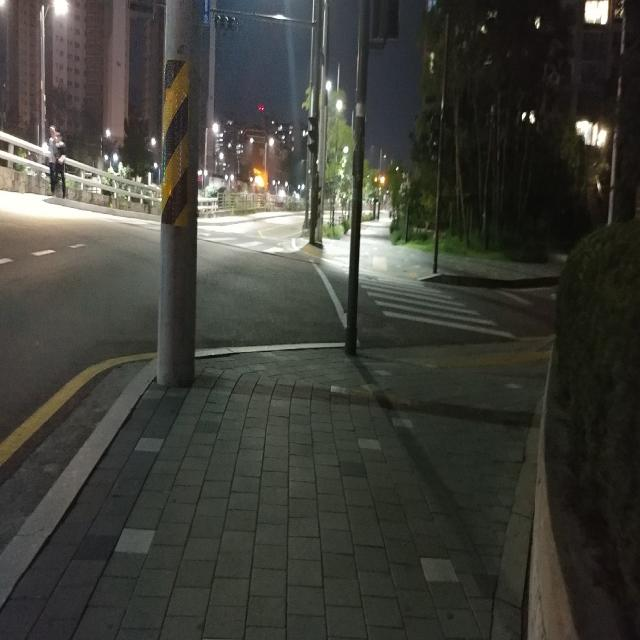횡단보도: (342, 267, 516, 340)
